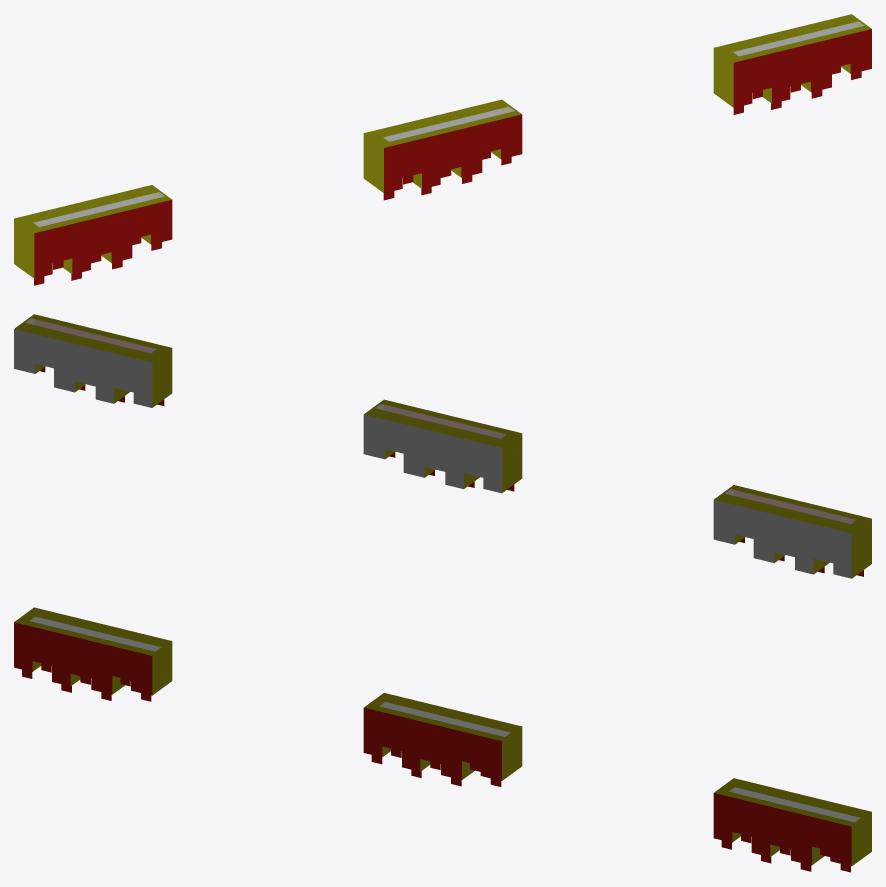
The model's file is idf.obj.
3 views of the same model, one above another, from view 1: azimuth 30°, elevation 25°; view 2: azimuth 150°, elevation 25°; view 3: azimuth 330°, elevation 25° (orthographic).
Size of the model in its own units: 240 by 16.8 by 10.
